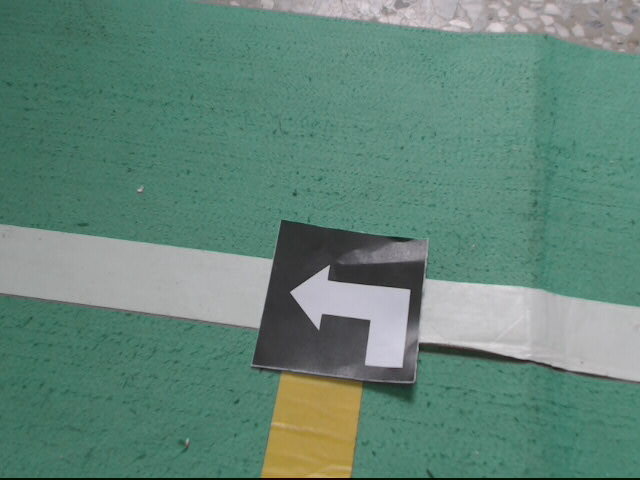left: (249, 220, 428, 387)
